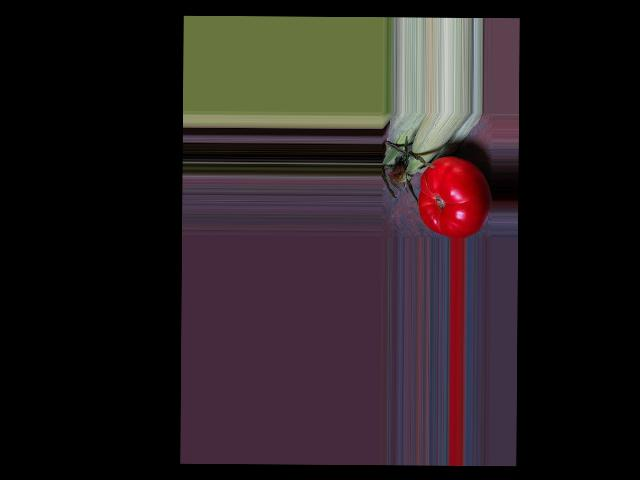tomato: (418, 156, 492, 237)
